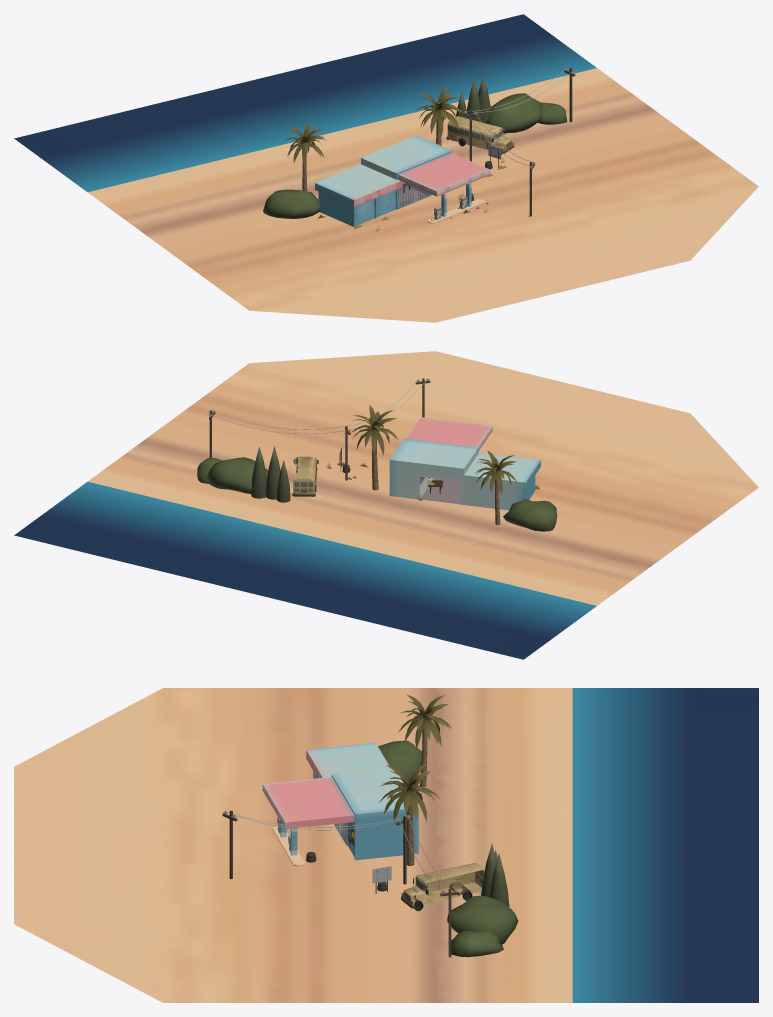
File: gas station.glb
3 renders of one model, top to bottom at view 1: azimuth 30°, elevation 25°; view 2: azimuth 150°, elevation 25°; view 3: azimuth 270°, elevation 25°, orthographic. The views are drawn at different scales.
Visible parts, largest first — view 1: ground, building, bush01, bus, bush02, palm02, tree, palm01; view 2: ground, building, bush01, tree, bush02, palm02, palm01, bus; view 3: ground, building, bush01, bus, palm02, palm01, bush02, tree.
Boxes of the visible parts, x1,y1,x2,y2 form: ground: (14, 14, 758, 322); building: (315, 135, 490, 226); bush01: (485, 93, 566, 133); bus: (446, 116, 514, 154); bush02: (263, 189, 320, 218); palm02: (415, 86, 463, 145); tree: (456, 75, 490, 122); palm01: (283, 121, 325, 191); ground: (14, 351, 758, 659); building: (389, 417, 540, 510); bush01: (197, 457, 268, 493); tree: (251, 446, 290, 502); bush02: (503, 499, 557, 531); palm02: (351, 405, 398, 490); palm01: (474, 450, 517, 524); bus: (292, 456, 318, 496); ground: (14, 688, 758, 1002); building: (262, 742, 418, 866); bush01: (447, 895, 518, 957); bus: (401, 863, 484, 910); palm02: (379, 762, 439, 865); palm01: (398, 694, 452, 787); bush02: (378, 740, 421, 781); tree: (481, 844, 509, 906).
Size of the model in its own units: 120 by 18.29 by 120.
8 materials, 8 textured.
